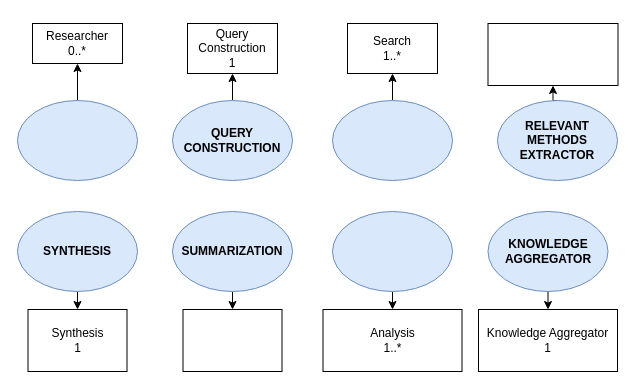
This 636x389 diagram has some shape labels left out. Here are the shapes that lost their labels. From the top down, the centre of each, then its label:
the point at 552,54: Relevant Methods Extractor 1..*
the point at 77,140: RESEARCHER
the point at 392,140: SEARCH
the point at 392,251: ANALYSIS
the point at 232,340: Summarization 1
